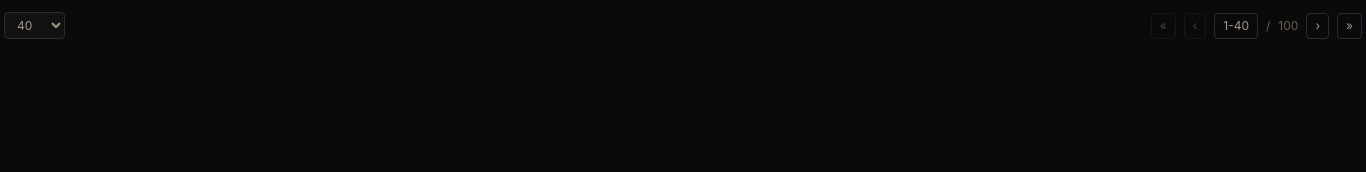
it: Pagination › enters edit mode on range click
Click the button "1-40" at (1236, 26), box top-left (1214, 12), bottom-right (1258, 38)
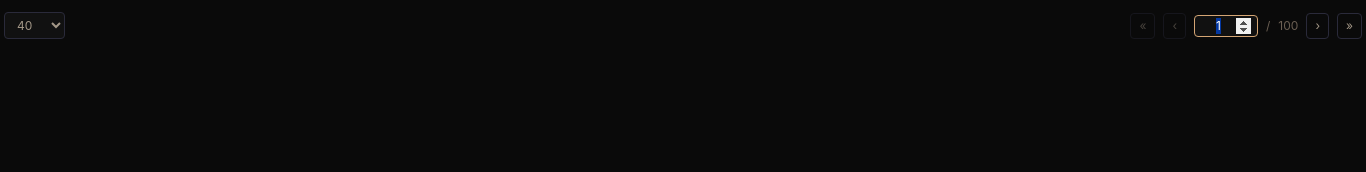
Expected: the number field is shown, top-left (1194, 14), bottom-right (1258, 36)
